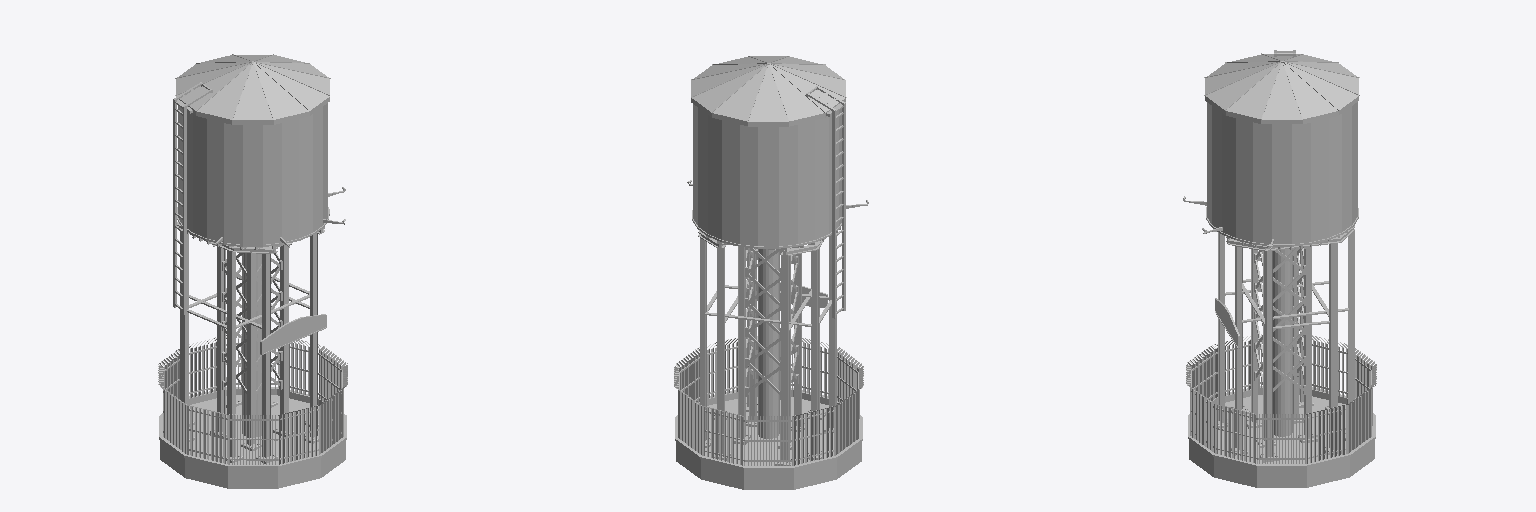
File: oxygen tank.obj
3 views of the same model, side by side, from view 1: azimuth 30°, elevation 25°; view 2: azimuth 150°, elevation 25°; view 3: azimuth 270°, elevation 25° (orthographic).
Parts seen in each view (by area): view 1: polySurface204; view 2: polySurface204; view 3: polySurface204.
Boxes of the visible parts, <box> form: polySurface204: <box>158,54,347,488</box>; polySurface204: <box>674,56,868,489</box>; polySurface204: <box>1183,50,1376,487</box>.
Bounding box in the file's own units: 4.21 × 9.24 × 4.2.